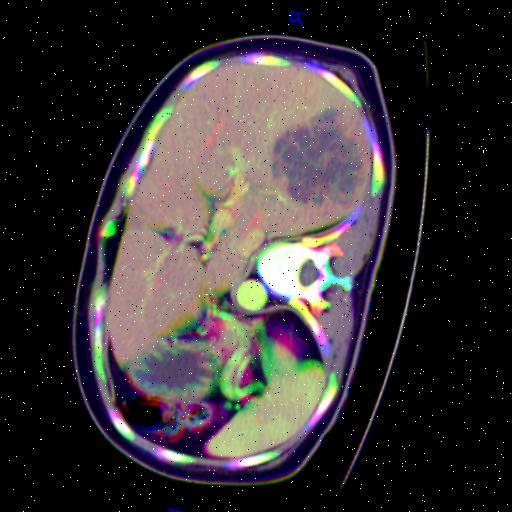Abscess: (273, 107, 365, 203)
